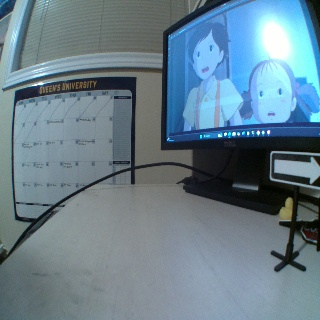sign_oneway_right: (269, 149, 319, 190)
